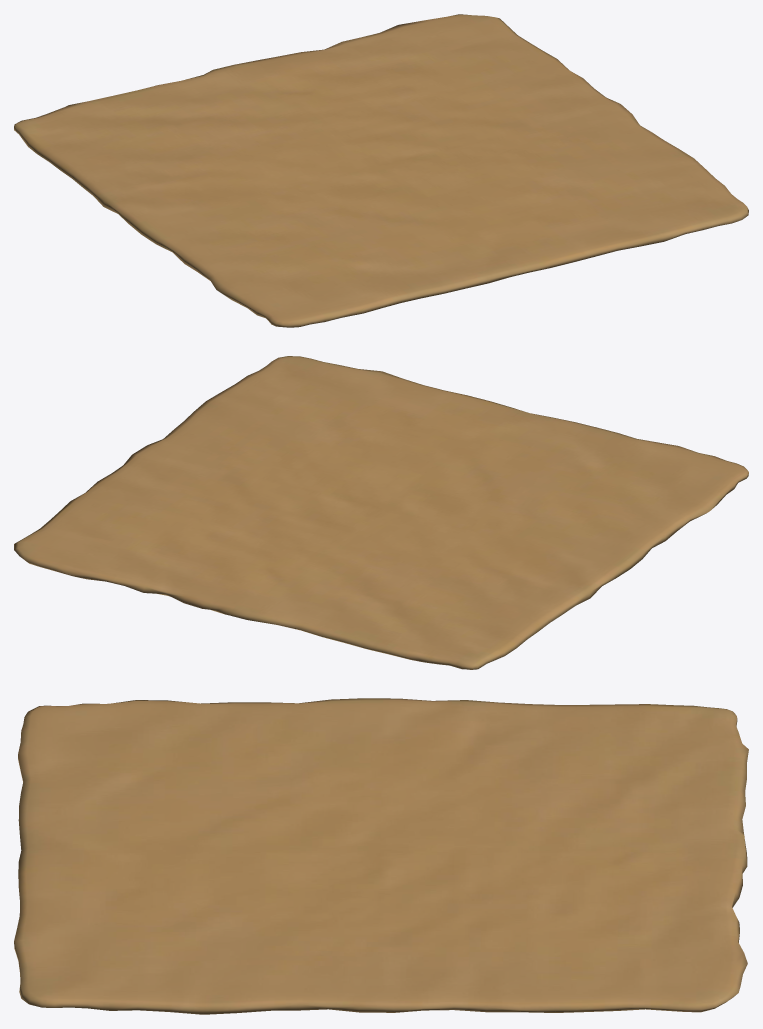
Rendered from sand_terra_01.glb.
The picture shows the model from 3 angles, top to bottom: view 1: azimuth 30°, elevation 25°; view 2: azimuth 150°, elevation 25°; view 3: azimuth 270°, elevation 25°; orthographic projection. The views are drawn at different scales.
Parts seen in each view (by area): view 1: mesh; view 2: mesh; view 3: mesh.
Boxes of the visible parts, box(x1,y1,x2,y2) form: mesh: box(14, 14, 748, 327); mesh: box(14, 356, 748, 669); mesh: box(14, 698, 748, 1014).
Size of the model in its own units: 0.9733 by 0.0256 by 0.9779.
Materials: 1 (1 with a texture image).
